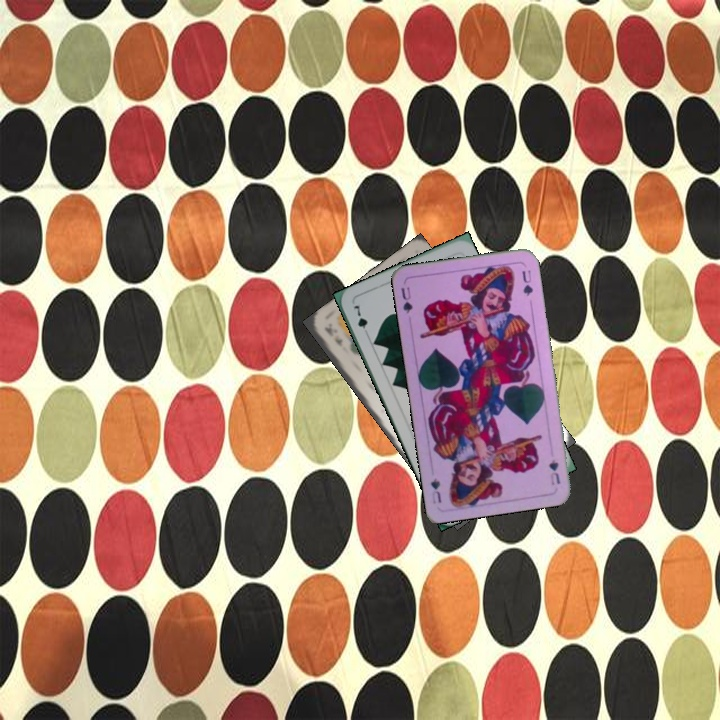EK: (320, 321, 345, 349)
G7: (349, 301, 371, 339)
GU: (397, 283, 415, 316), (545, 455, 563, 487)
